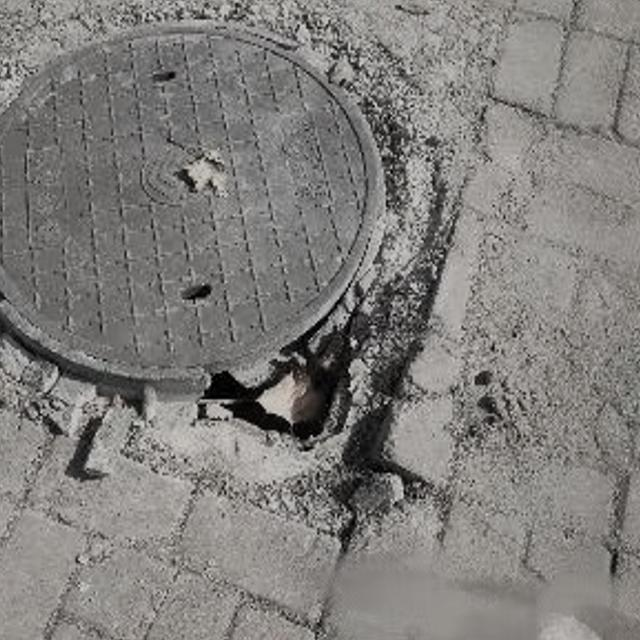circle: (0, 0, 460, 432)
